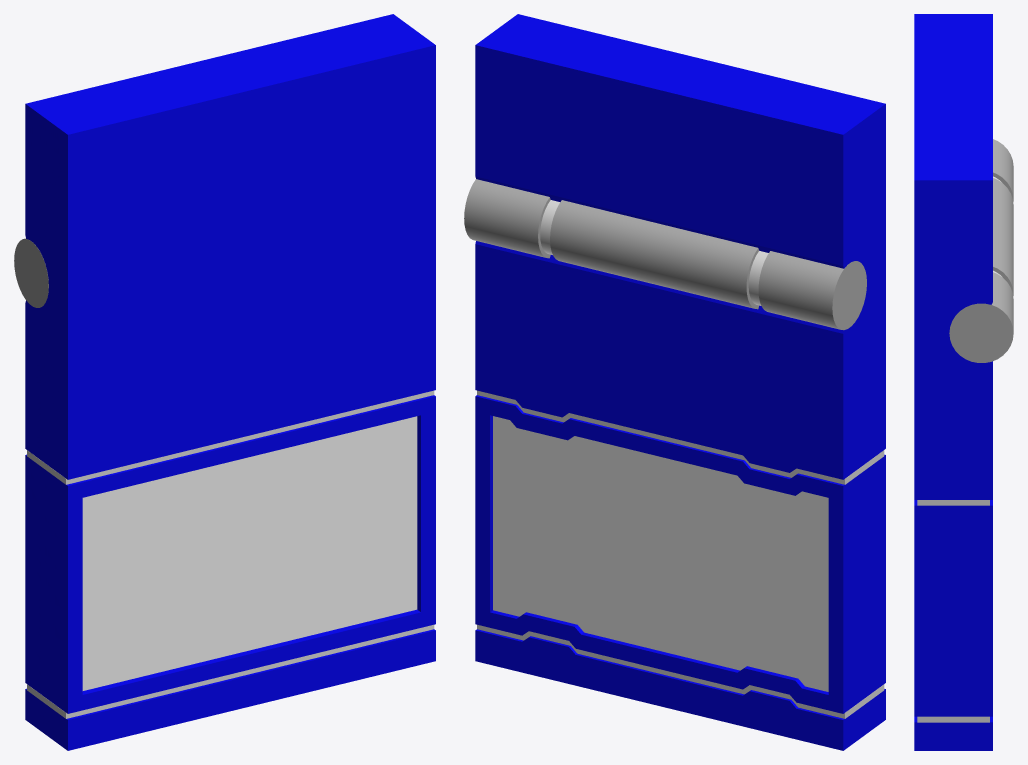
The model's file is Walls_Window1x1Merged.fbx.
The picture shows the model from 3 angles, left to right: view 1: azimuth 30°, elevation 25°; view 2: azimuth 150°, elevation 25°; view 3: azimuth 270°, elevation 25°; orthographic projection. The views are drawn at different scales.
Parts seen in each view (by area): view 1: Wall_Window_1x1_Combined; view 2: Wall_Window_1x1_Combined; view 3: Wall_Window_1x1_Combined.
Boxes of the visible parts, left/top/right/bottom form: Wall_Window_1x1_Combined: left=14, top=14, right=435, bottom=750; Wall_Window_1x1_Combined: left=464, top=14, right=885, bottom=750; Wall_Window_1x1_Combined: left=914, top=14, right=1013, bottom=750.
Size of the model in its own units: 500 by 800 by 126.
